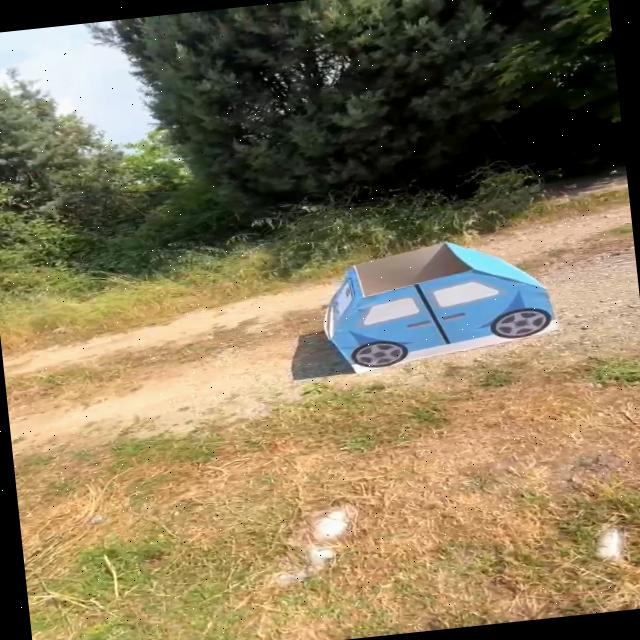blue_car: (285, 216, 581, 386)
